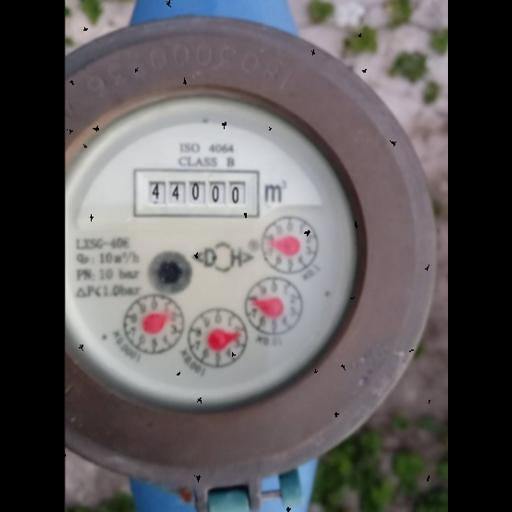0: (191, 182, 206, 204), (231, 183, 245, 204), (212, 183, 225, 204)
4: (150, 183, 165, 206), (171, 182, 186, 204)
border_water_meter_number: (133, 169, 260, 218)
